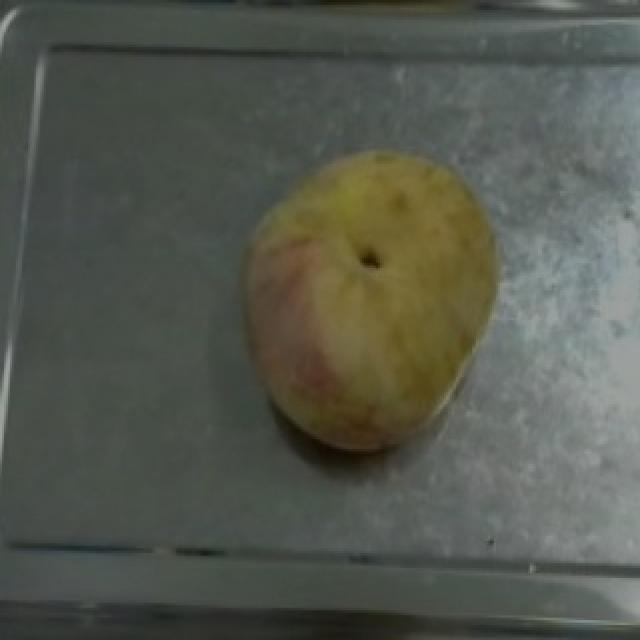Fruit: (222, 194, 510, 466)
